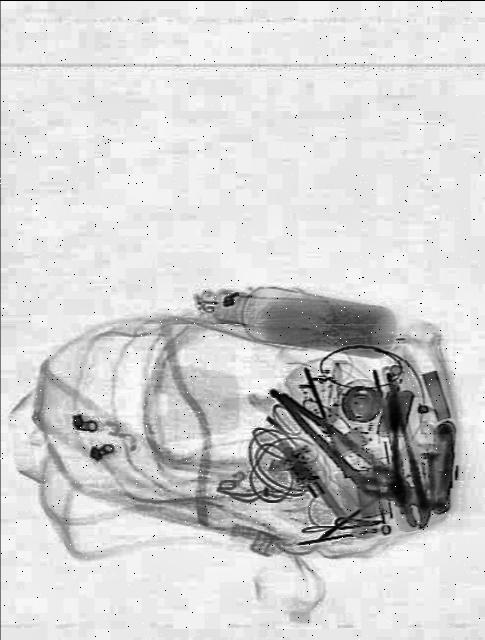Pliers: (259, 370, 415, 518)
